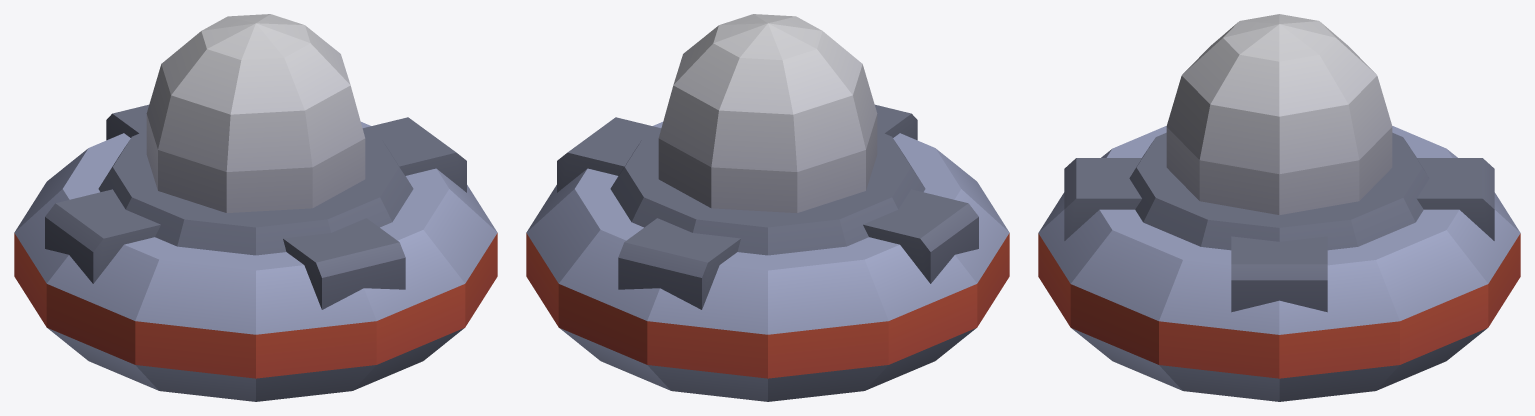
The model's file is enemy-ufo-a.glb.
3 renders of one model, left to right at view 1: azimuth 30°, elevation 25°; view 2: azimuth 150°, elevation 25°; view 3: azimuth 270°, elevation 25°, orthographic.
Parts seen in each view (by area): view 1: geometry_0; view 2: geometry_0; view 3: geometry_0.
Part boxes in pixels (box(x1,y1,x2,y2)): geometry_0: box(14, 14, 497, 401); geometry_0: box(526, 14, 1009, 401); geometry_0: box(1038, 14, 1520, 401).
Bounding box in the file's own units: 1 × 0.6779 × 1.
